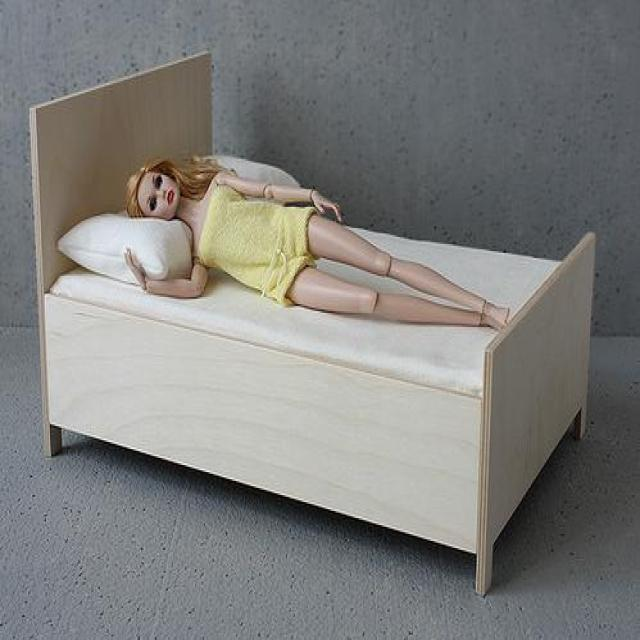bed: (28, 47, 597, 596)
